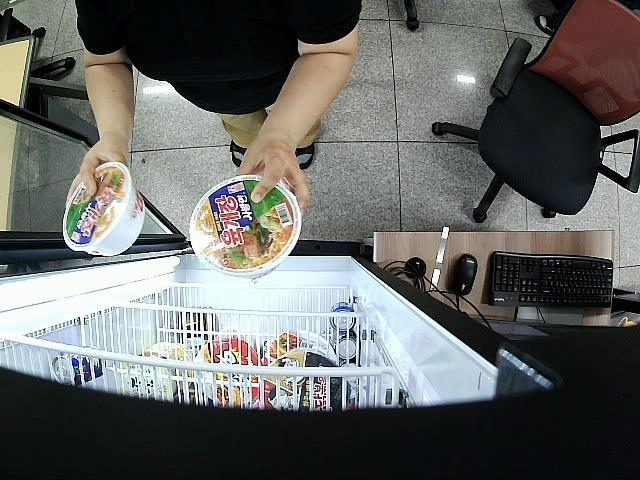09_yukGaeJang: (189, 176, 302, 276), (60, 164, 147, 258)
